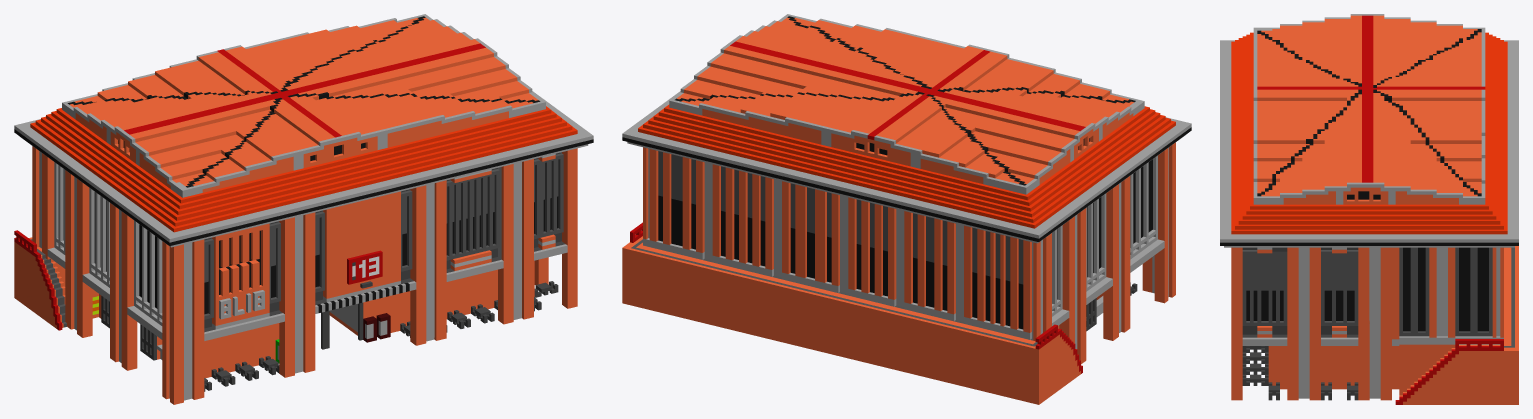
The model's file is biblioteca_textures_embed (1).fbx.
3 renders of one model, left to right at view 1: azimuth 30°, elevation 25°; view 2: azimuth 150°, elevation 25°; view 3: azimuth 270°, elevation 25°, orthographic. The views are drawn at different scales.
Visible parts, largest first — view 1: Biblioteca V1; view 2: Biblioteca V1; view 3: Biblioteca V1.
Part boxes in pixels (bbox=[...]): Biblioteca V1: bbox=[14, 14, 593, 404]; Biblioteca V1: bbox=[622, 14, 1191, 404]; Biblioteca V1: bbox=[1220, 14, 1518, 404].
Size of the model in its own units: 1260 by 610 by 800.
Materials: 1 (1 with a texture image).
